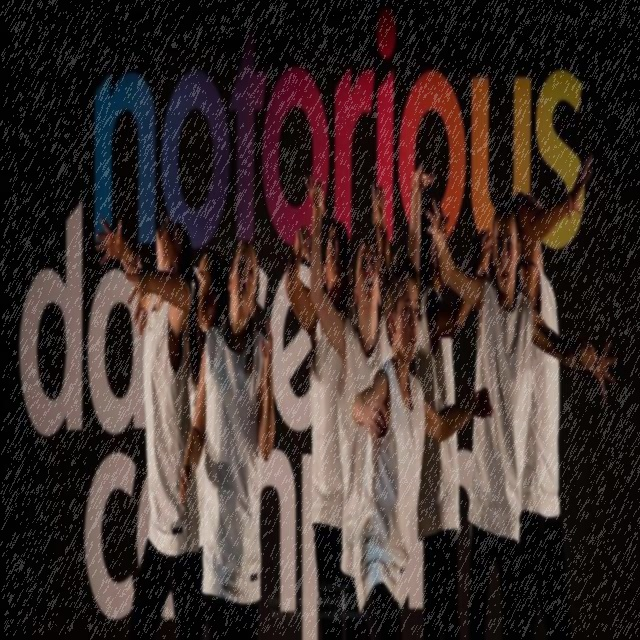pessoa: (422, 184, 615, 638), (302, 161, 438, 639), (352, 238, 496, 638), (284, 180, 392, 638), (91, 200, 196, 638), (510, 147, 596, 638), (175, 232, 278, 638), (409, 192, 496, 639), (189, 240, 232, 639)
